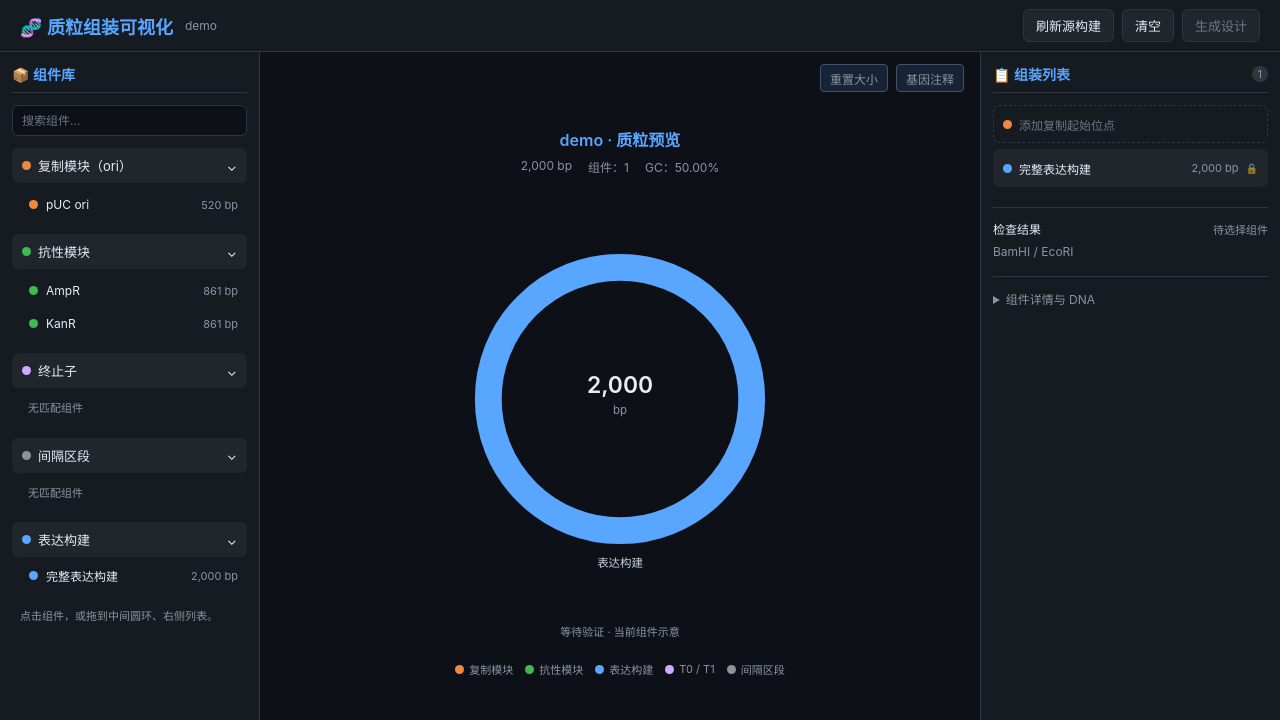
it: Workbench › keeps existing resistance when another resistance is chosen
Expected: the text "AmpR" is shown, x1=46 y1=283 x2=80 y2=298
Click the button "AmpR 861 bp" at coordinates (134, 290), box x1=20 y1=275 x2=247 y2=306
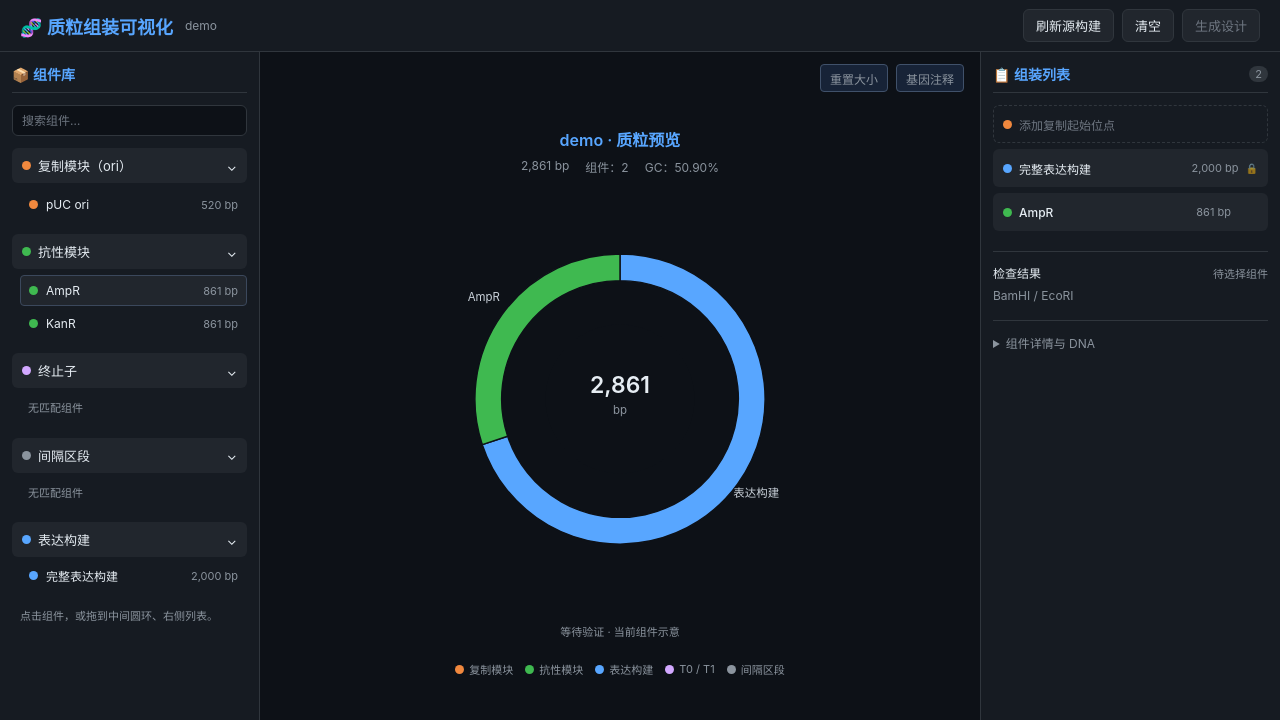
Click the button "KanR 861 bp" at coordinates (134, 324), box x1=20 y1=308 x2=247 y2=339
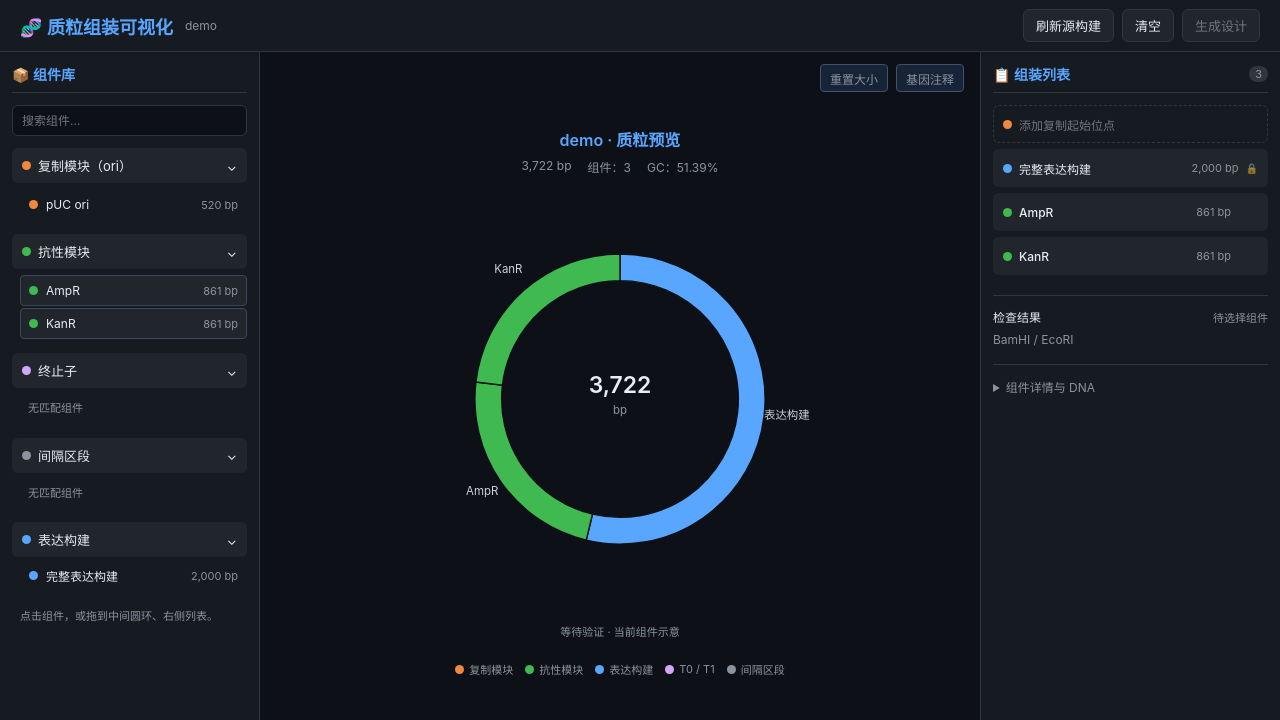
Result: the element with test id "resistance-slot" shows "AmpR" at x1=1019 y1=204 x2=1053 y2=220
Result: the element with test id "resistance-slot" shows "KanR" at x1=1019 y1=248 x2=1049 y2=264
